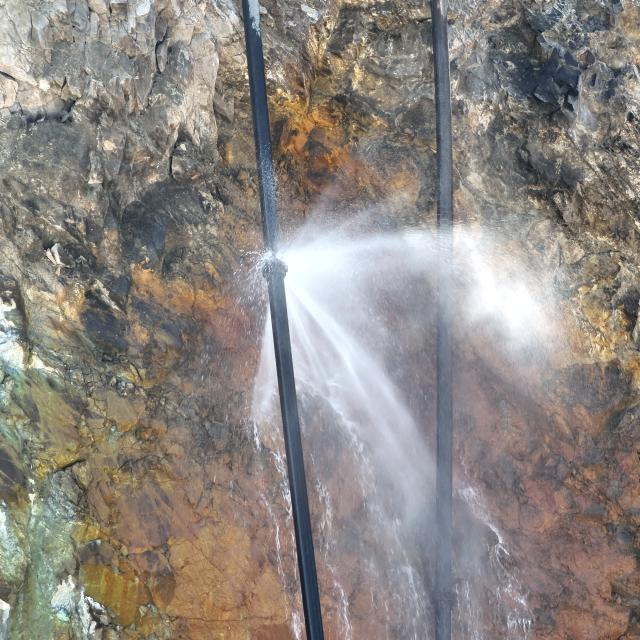leak: (237, 144, 579, 640)
